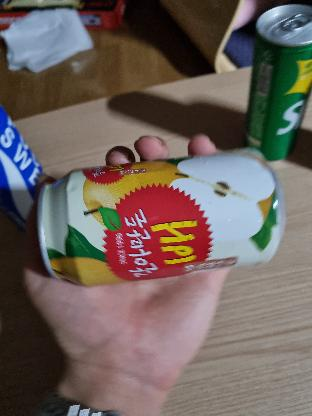Can: (33, 144, 291, 280)
